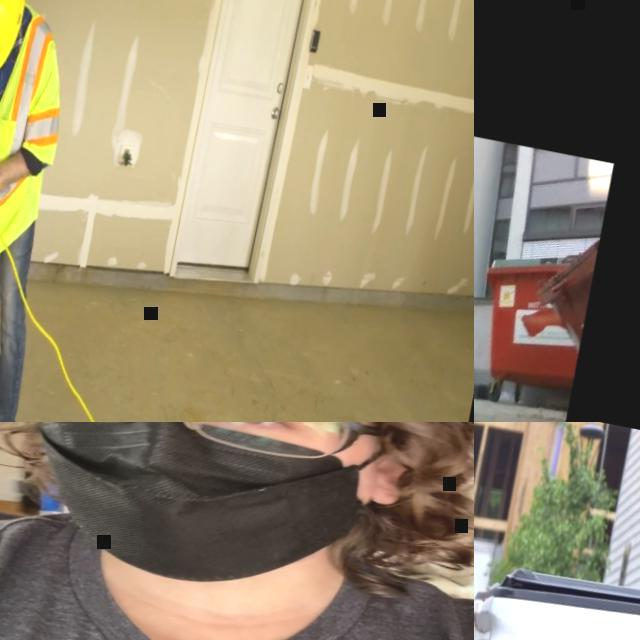helmet: (0, 0, 34, 78)
mask: (7, 422, 392, 614)
no_vest: (0, 489, 474, 640)
person: (0, 422, 474, 640), (0, 0, 107, 422)
vehicle: (474, 533, 640, 640)
vest: (0, 0, 80, 244)
